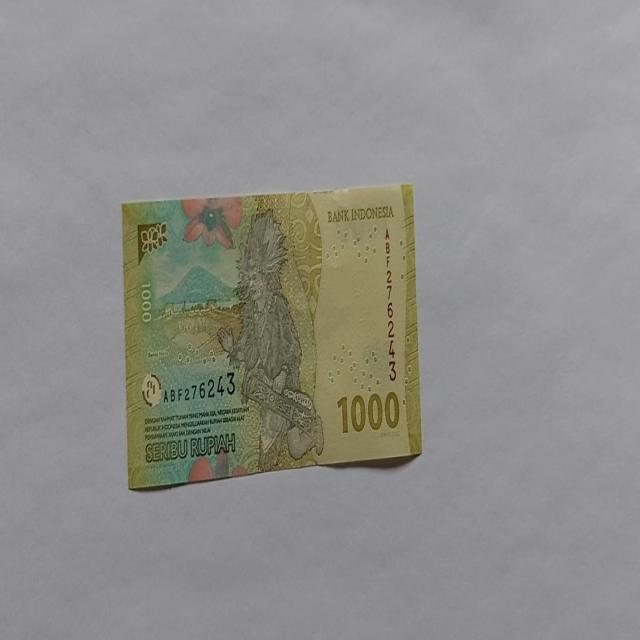seribu rupiah kertas: (121, 181, 422, 491), (217, 207, 323, 471)
